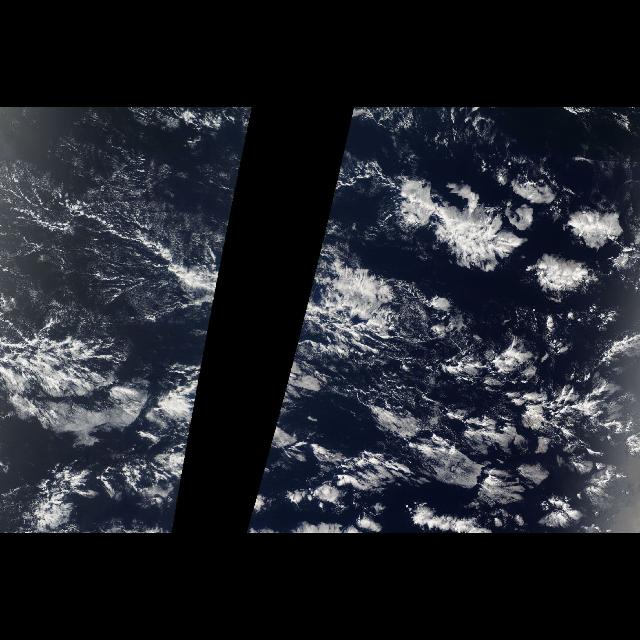Fish: (291, 240, 395, 368), (166, 240, 226, 368)
Flower: (370, 140, 632, 312), (352, 352, 638, 496)
Sugar: (31, 118, 217, 202), (8, 250, 154, 332)
